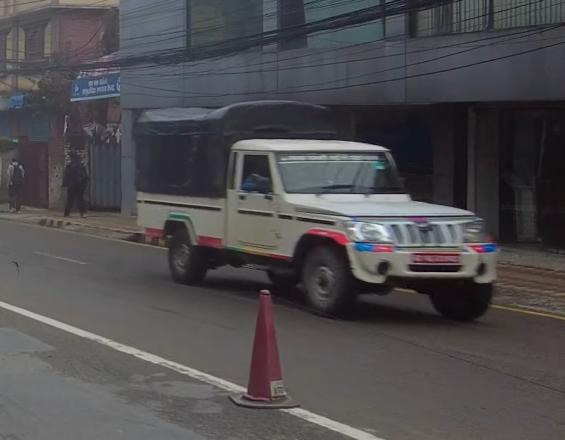transport_vehicle: (141, 99, 501, 328)
